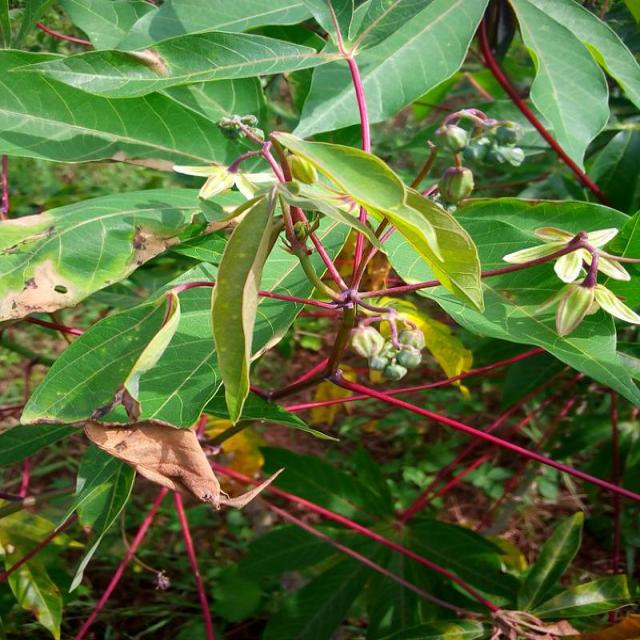cassava leaf: (381, 194, 640, 408), (270, 130, 486, 313)
